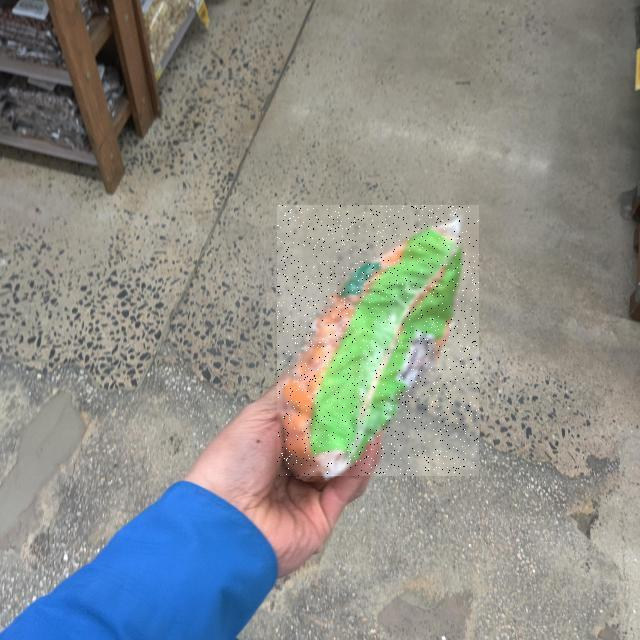Carrot: (277, 205, 479, 476)
